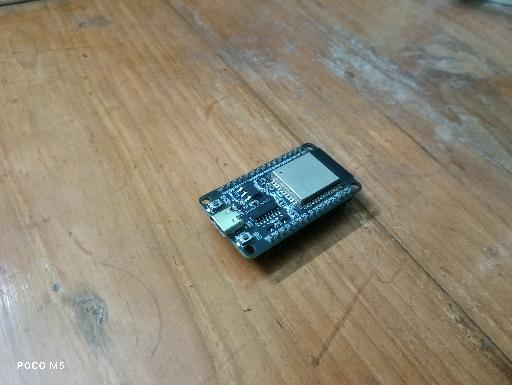Esp32: (197, 142, 363, 260)
